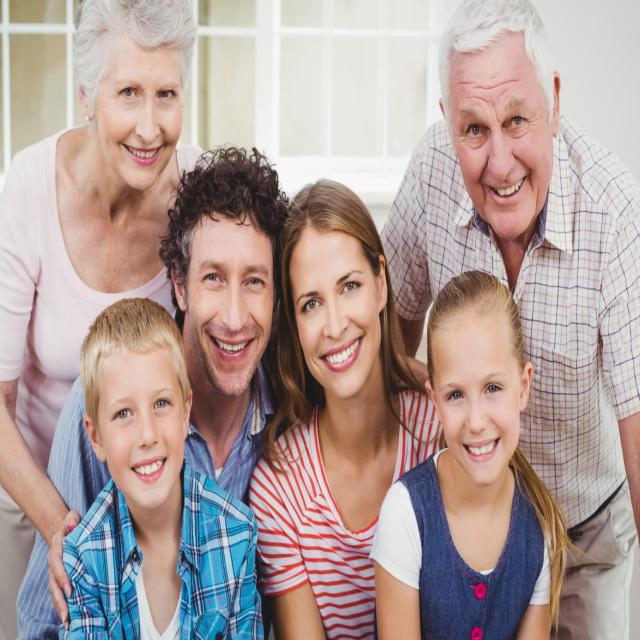adult: (381, 0, 640, 640), (1, 0, 212, 640), (15, 151, 282, 640), (248, 175, 447, 640)
child: (369, 267, 568, 640), (62, 297, 260, 640)
